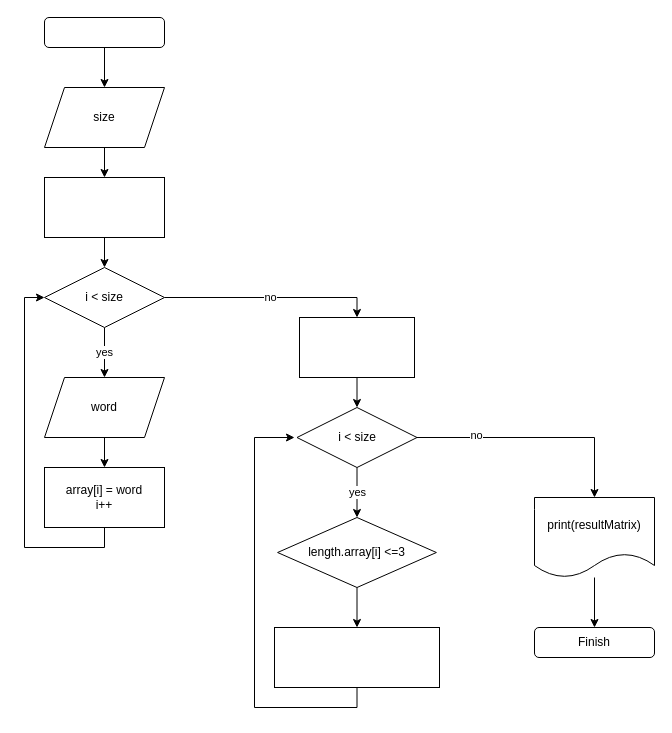
This 672x733 diagram has some shape labels left out. Here are the shapes that lost their labels. From the top down, the centre of each, then its label:
the point at 104,32: Start
the point at 104,207: i = 0 array[size]
the point at 356,347: i = 0 anotherSize = 0 resultMatrix[]
the point at 357,657: resultMatrix[anotherSize] = array[i] anotherSize++
